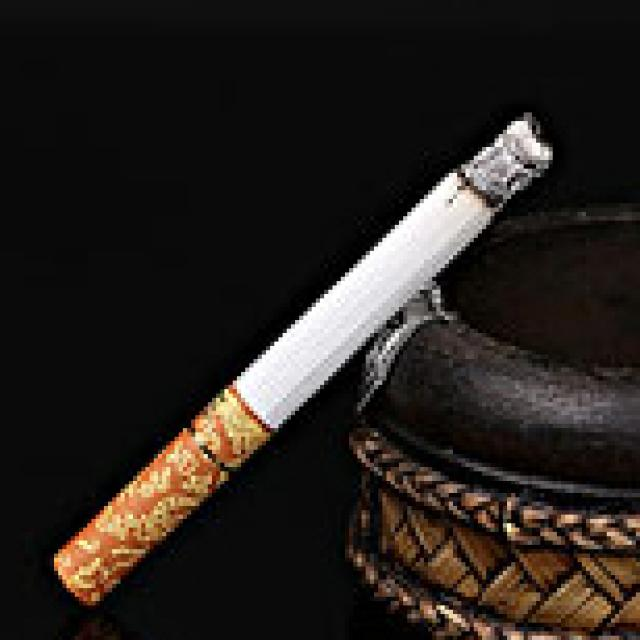smoking: (54, 119, 548, 605)
